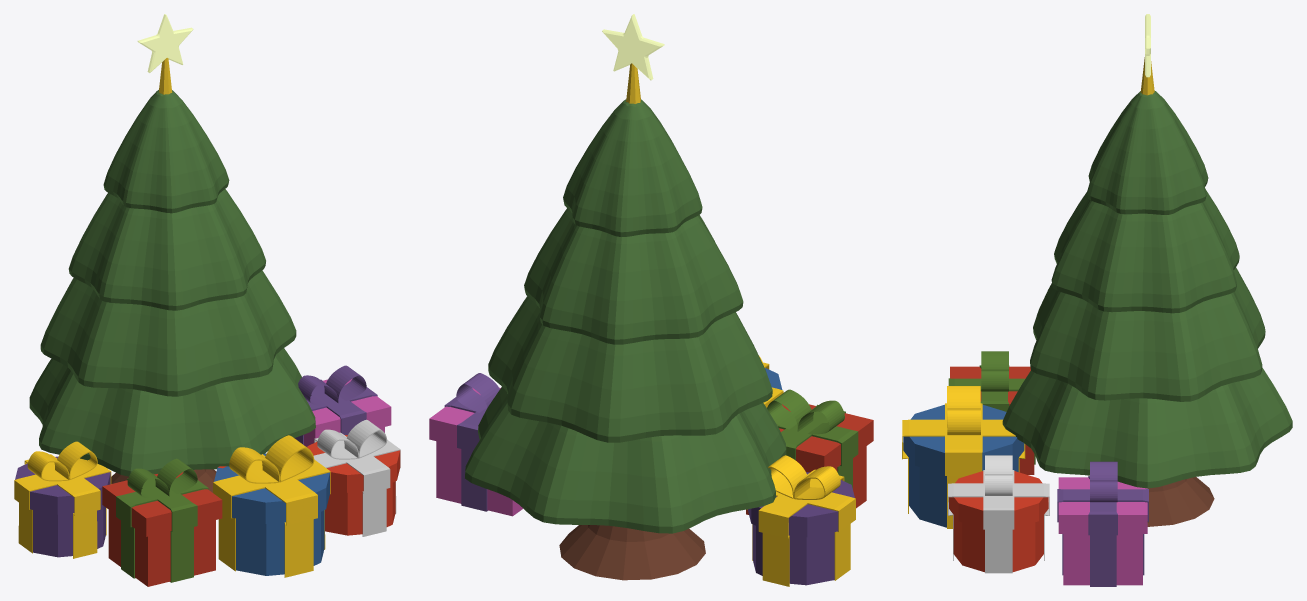
File: Tree.glb
3 renders of one model, left to right at view 1: azimuth 30°, elevation 25°; view 2: azimuth 150°, elevation 25°; view 3: azimuth 270°, elevation 25°, orthographic. The views are drawn at different scales.
Parts seen in each view (by area): view 1: Tree; view 2: Tree; view 3: Tree.
Boxes of the visible parts, x1,y1,x2,y2 form: Tree: (14,14,400,586); Tree: (429,14,873,586); Tree: (902,14,1292,586).
Size of what is drawn, in the model's own units: 2.57 by 3.35 by 2.45.
Materials: 3 (3 with a texture image).
